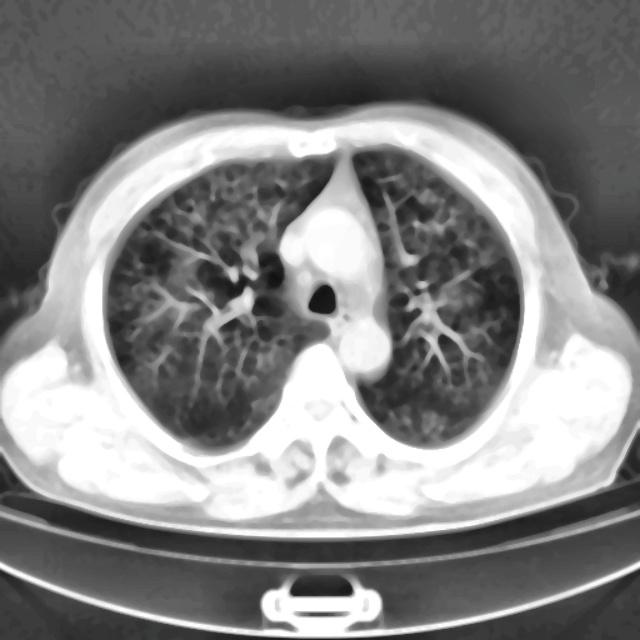covid: (1, 101, 638, 535)
